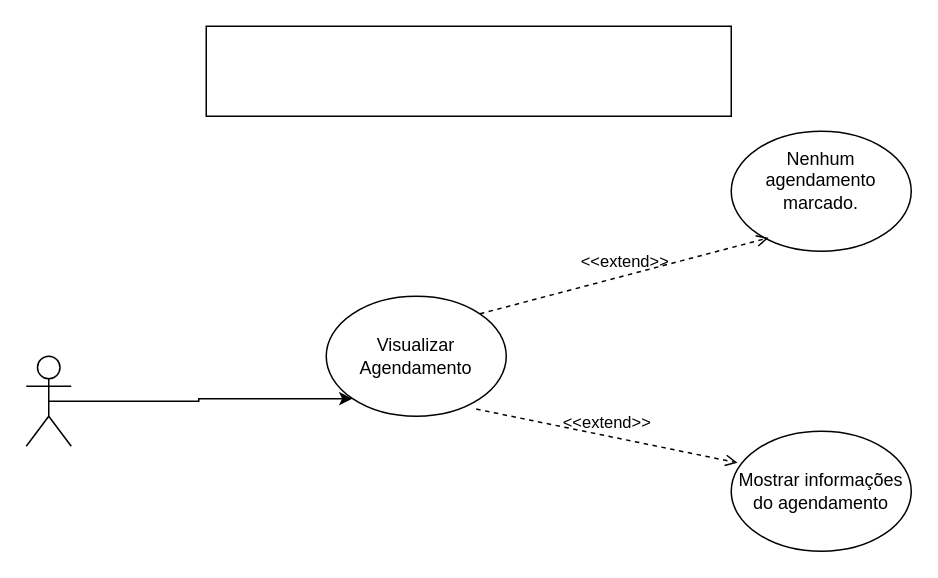
Some shapes in this 938 by 578 pixel diagram are drawn without their labels. The centre of each missing label's shape, as x and y in pixels:
ADM: point 48,400
CASO DE USO 03: point 468,70
